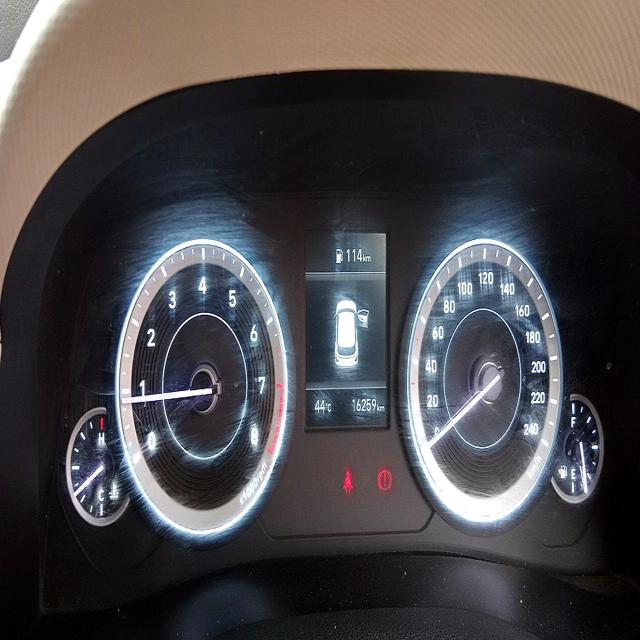odometer: (347, 387, 378, 420)
